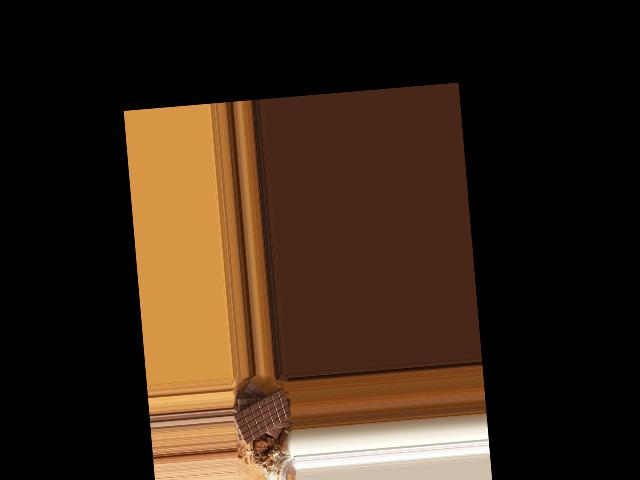chocolate: (231, 387, 291, 448)
